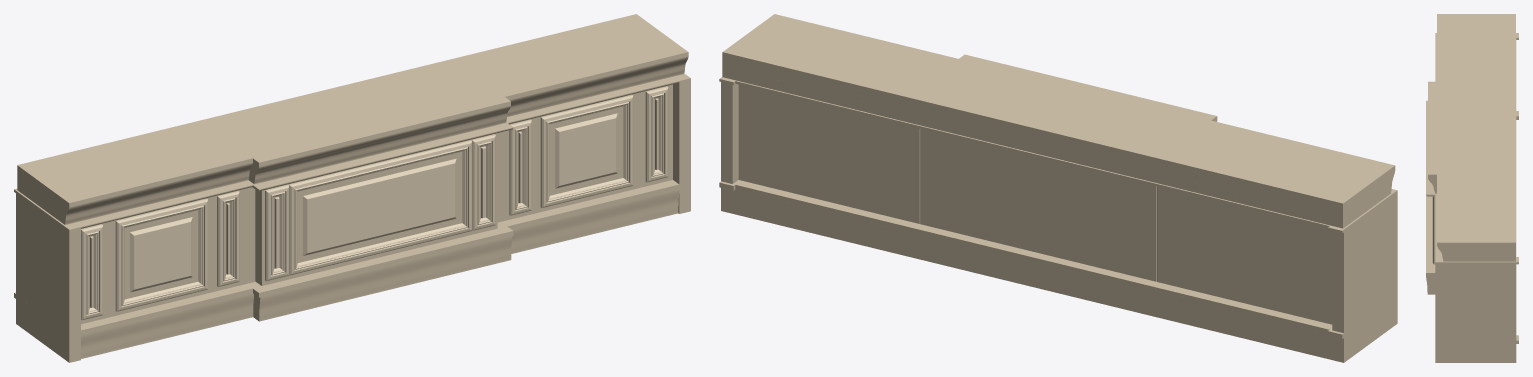
File: altar-base.glb
3 renders of one model, left to right at view 1: azimuth 30°, elevation 25°; view 2: azimuth 150°, elevation 25°; view 3: azimuth 270°, elevation 25°, orthographic. The views are drawn at different scales.
Parts seen in each view (by area): view 1: COUNTER_CENTER_profile_3, COUNTER_L_profile_3, COUNTER_R_profile_3, PANEL_lower_CENTER_RAISED_CENTER_v14, BASE_visible_stile_-1_0, BASE_R_cabinet, BASE_L_cabinet, BASE_CENTER_plinth, BASE_L_plinth, BASE_CENTER_cabinet, BASE_R_plinth, PANEL_lower_L_broad_RAISED_CENTER_v14 (+34 smaller); view 2: BASE_CENTER_cabinet, BASE_R_cabinet, BASE_L_cabinet, COUNTER_CENTER_profile_3, COUNTER_L_profile_3, COUNTER_R_profile_3, BASE_visible_stile_-1_0, BASE_CENTER_plinth, BASE_L_plinth, BASE_R_plinth, COUNTER_L_profile_2, COUNTER_CENTER_profile_2 (+15 smaller); view 3: COUNTER_CENTER_profile_3, BASE_visible_stile_1_0, COUNTER_R_profile_3, COUNTER_L_profile_3, COUNTER_R_profile_2, BASE_C_rail_0.34, BASE_R_rail_1.44, BASE_C_rail_1.44, COUNTER_R_profile_1, COUNTER_R_profile_0, PANEL_lower_C_R_0, BASE_CENTER_plinth (+1 smaller).
Part boxes in pixels (x1,y1,x2,y2): COUNTER_CENTER_profile_3: (201, 59, 510, 166); COUNTER_L_profile_3: (17, 120, 252, 206); COUNTER_R_profile_3: (453, 14, 688, 99); PANEL_lower_CENTER_RAISED_CENTER_v14: (303, 158, 456, 255); BASE_visible_stile_-1_0: (16, 193, 80, 362); BASE_R_cabinet: (497, 84, 672, 222); BASE_L_cabinet: (81, 187, 255, 324); BASE_CENTER_plinth: (253, 236, 512, 321); BASE_L_plinth: (16, 293, 253, 361); BASE_CENTER_cabinet: (255, 125, 497, 285); BASE_R_plinth: (511, 189, 679, 253); PANEL_lower_L_broad_RAISED_CENTER_v14: (130, 217, 192, 292); BASE_CENTER_cabinet: (920, 129, 1156, 281); BASE_R_cabinet: (738, 84, 920, 223); BASE_L_cabinet: (1157, 186, 1332, 324); COUNTER_CENTER_profile_3: (907, 54, 1217, 160); COUNTER_L_profile_3: (1152, 120, 1395, 207); COUNTER_R_profile_3: (722, 14, 957, 102); BASE_visible_stile_-1_0: (1332, 192, 1397, 362); BASE_CENTER_plinth: (913, 233, 1151, 315); BASE_L_plinth: (1151, 291, 1397, 362); BASE_R_plinth: (732, 189, 913, 257); COUNTER_L_profile_2: (1152, 161, 1395, 218); COUNTER_CENTER_profile_2: (913, 103, 1217, 171); COUNTER_CENTER_profile_3: (1428, 81, 1515, 177); BASE_visible_stile_1_0: (1435, 262, 1516, 362); COUNTER_R_profile_3: (1437, 174, 1515, 245); COUNTER_L_profile_3: (1437, 14, 1515, 81); COUNTER_R_profile_2: (1437, 245, 1515, 253); BASE_C_rail_0.34: (1426, 195, 1435, 272); BASE_R_rail_1.44: (1435, 192, 1516, 262); BASE_C_rail_1.44: (1426, 104, 1516, 190); COUNTER_R_profile_1: (1442, 254, 1515, 257); COUNTER_R_profile_0: (1442, 258, 1515, 261); PANEL_lower_C_R_0: (1432, 196, 1435, 264); BASE_CENTER_plinth: (1426, 276, 1435, 294).
Bounding box in the file's own units: 7.94 × 1.94 × 1.36.
